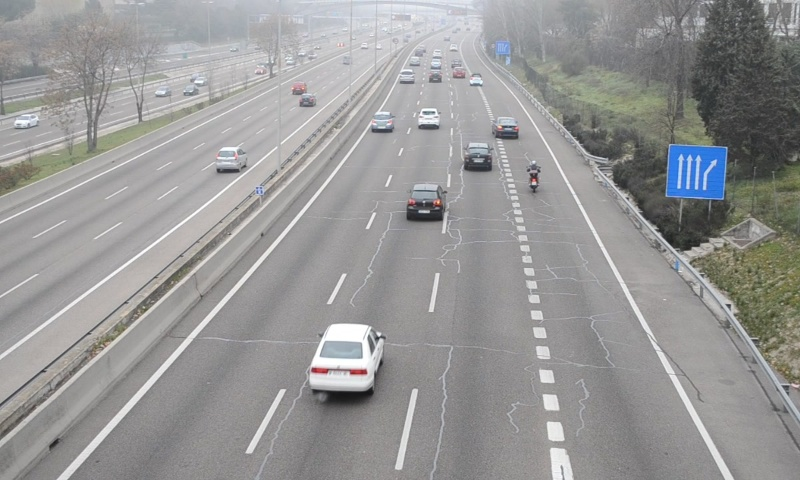car: (308, 323, 385, 392), (406, 184, 446, 220), (462, 142, 494, 172), (492, 116, 520, 140), (370, 110, 395, 133), (418, 108, 441, 128), (400, 67, 414, 84)
motorcycle: (526, 159, 542, 194)
